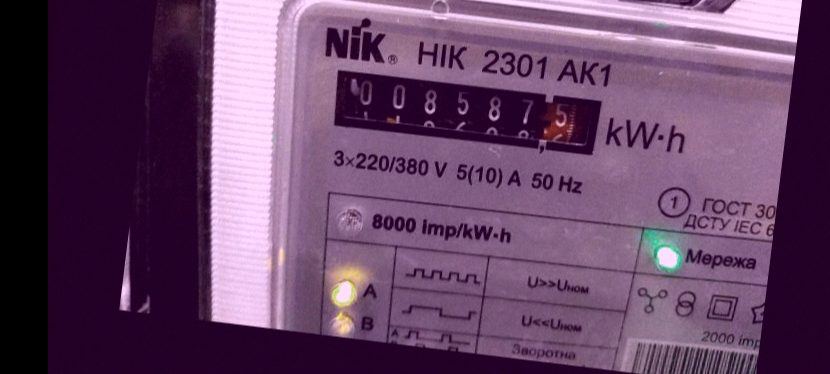0: (354, 76, 375, 107), (388, 81, 408, 111)
5: (551, 100, 571, 131), (452, 88, 472, 118)
7: (515, 95, 536, 127)
8: (483, 92, 504, 124), (420, 86, 439, 116)
screen: (310, 51, 620, 170)
